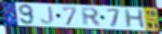7: (62, 6, 79, 27), (106, 8, 122, 28)
9: (17, 4, 36, 26)
H: (122, 8, 147, 29)
J: (40, 6, 55, 25)
R: (80, 6, 103, 27)
